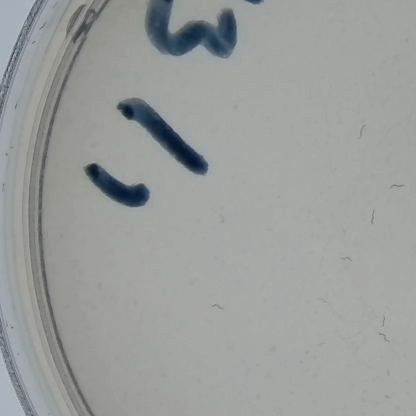worm: (211, 211, 229, 235), (371, 330, 392, 349), (354, 119, 371, 141), (373, 312, 392, 328), (367, 207, 382, 227), (207, 302, 226, 314), (389, 181, 407, 191), (341, 251, 353, 263), (315, 296, 331, 304)
